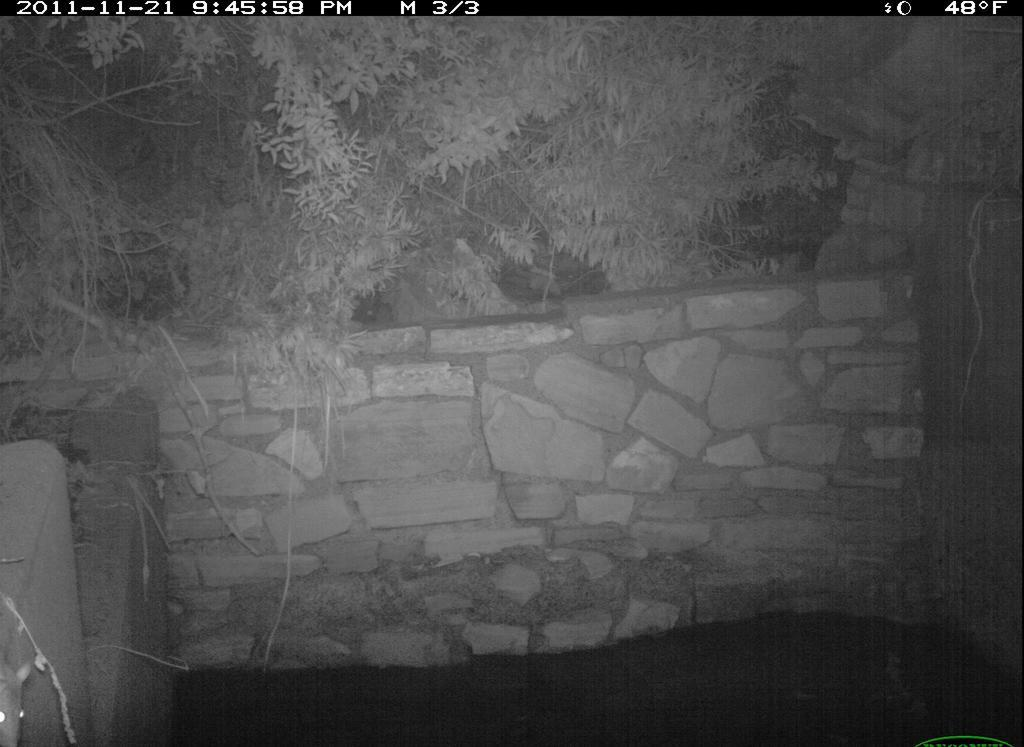rodent: (1, 657, 38, 747)
